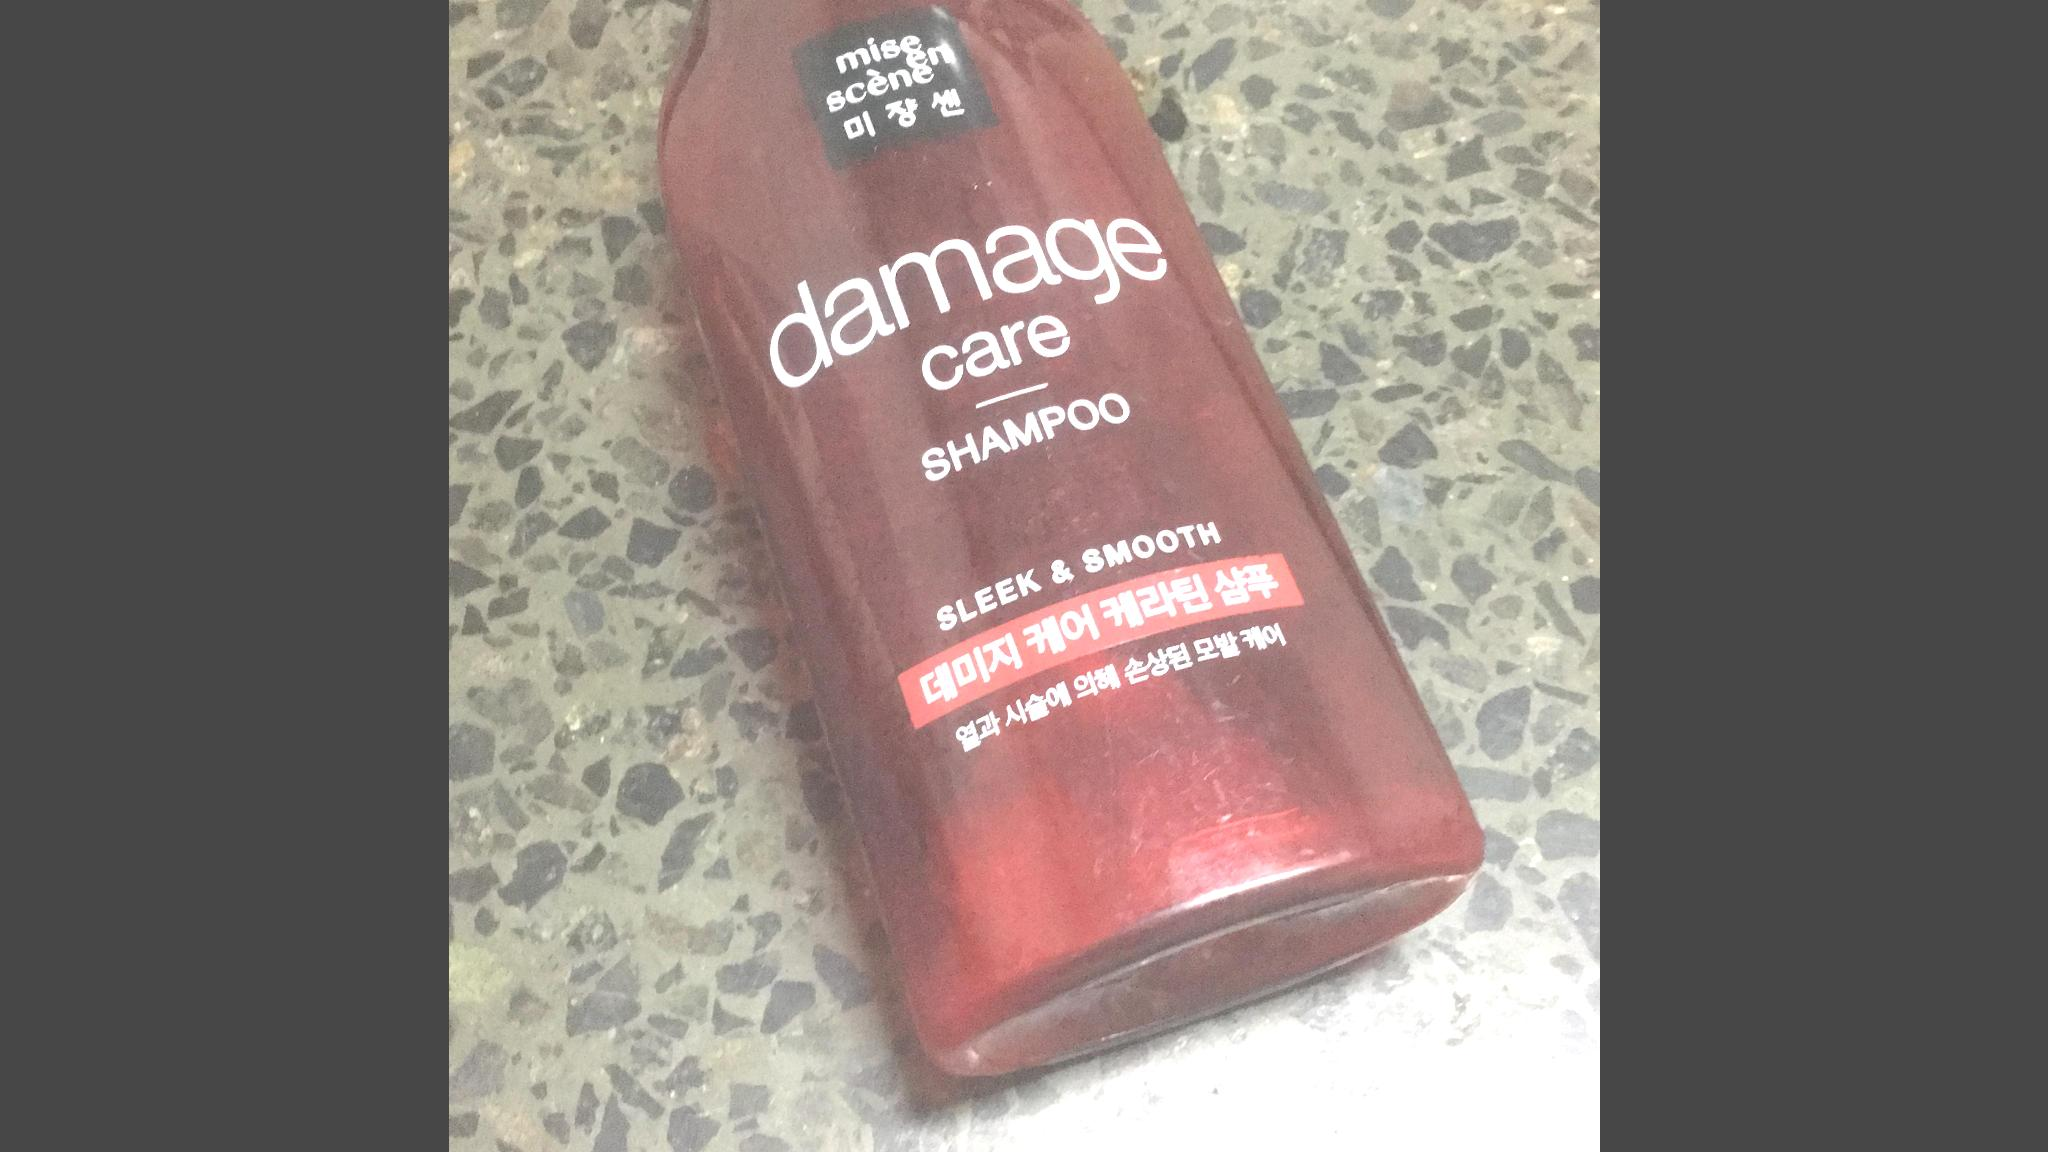bottle: (655, 0, 1489, 1082)
